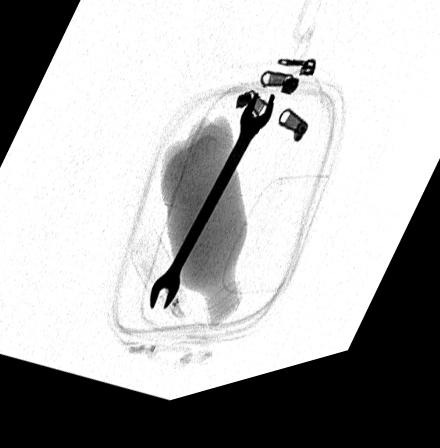Wrench: (149, 106, 274, 321)
